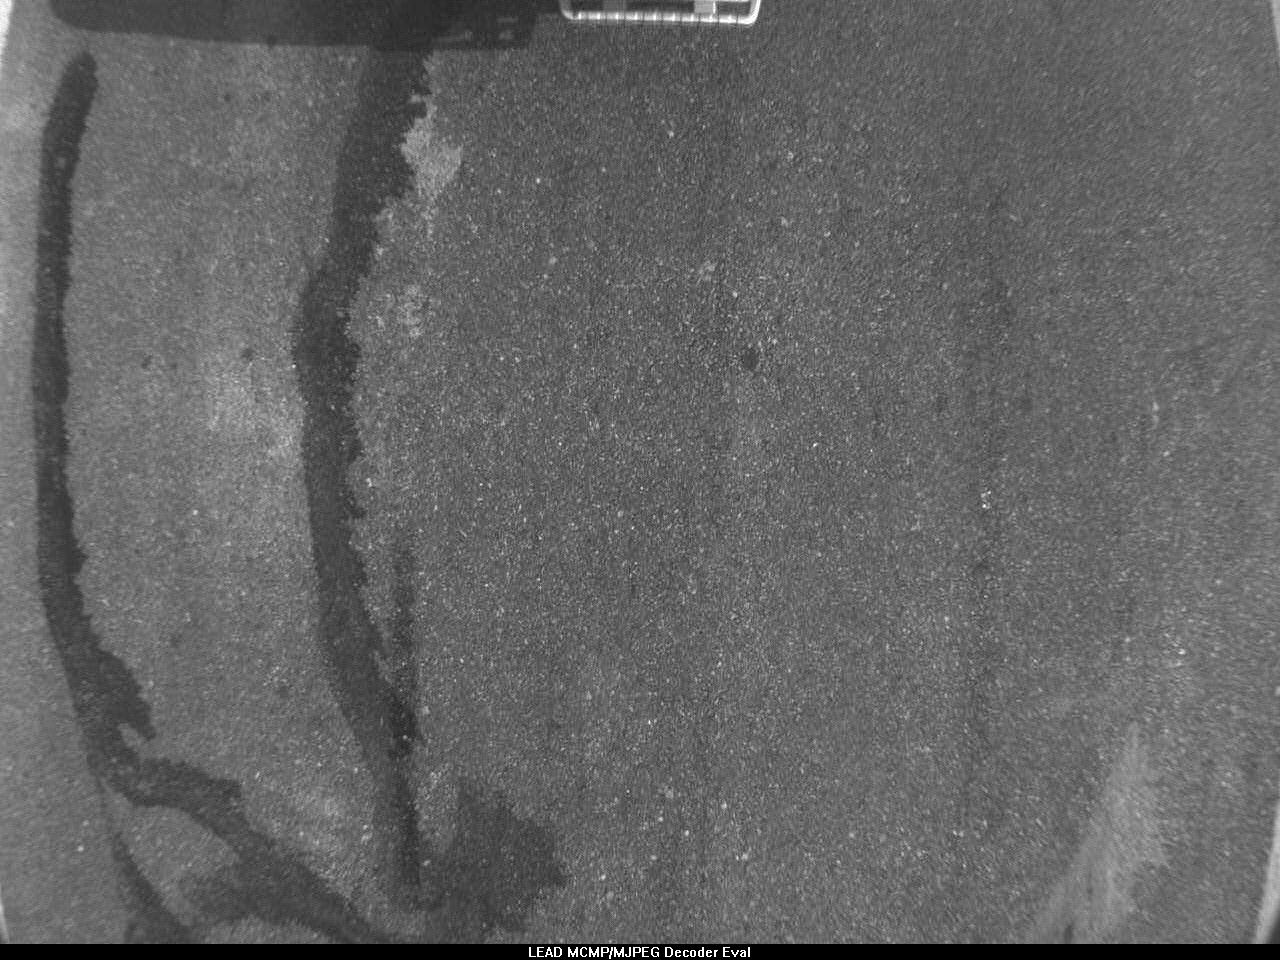sealed: (15, 46, 275, 873), (286, 38, 467, 798)
